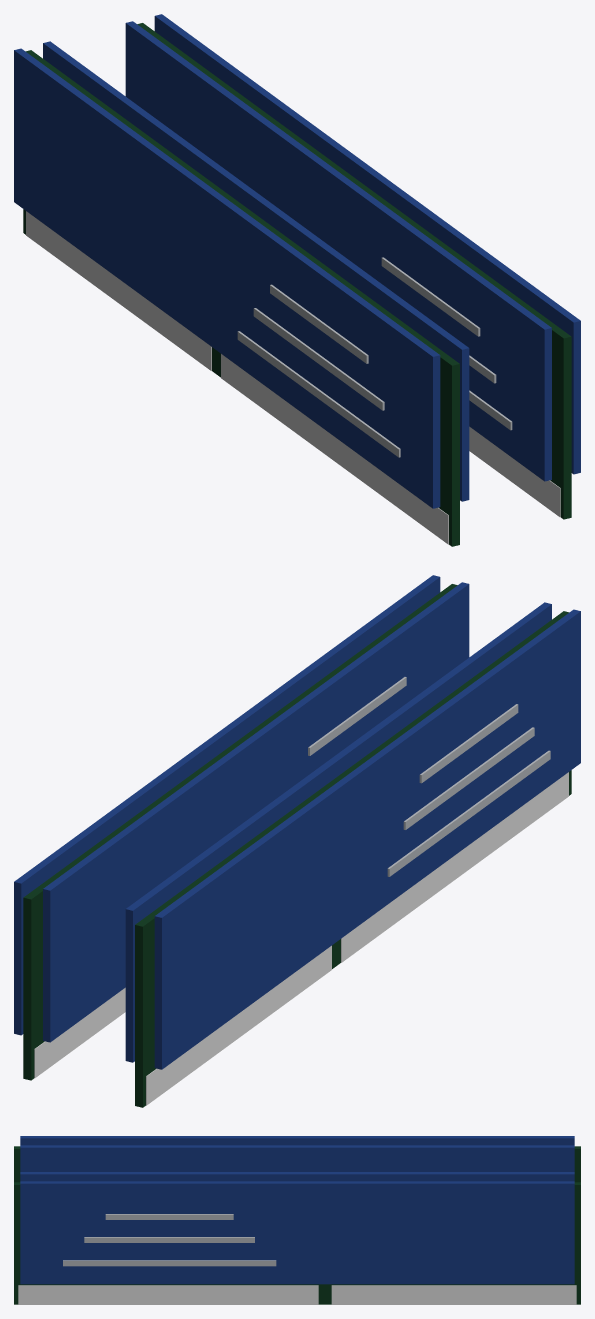
Rendered from hw_ram_ddr5_32gb.glb.
3 views of the same model, one above another, from view 1: azimuth 30°, elevation 25°; view 2: azimuth 150°, elevation 25°; view 3: azimuth 270°, elevation 25° (orthographic). The views are drawn at different scales.
Parts seen in each view (by area): view 1: Stick_1, Body; view 2: Stick_1, Body; view 3: Body, Stick_1.
Part boxes in pixels (bbox=[...]): Stick_1: bbox=[14, 41, 469, 546]; Body: bbox=[125, 14, 580, 519]; Stick_1: bbox=[125, 602, 580, 1107]; Body: bbox=[14, 575, 469, 1080]; Body: bbox=[14, 1172, 580, 1304]; Stick_1: bbox=[14, 1136, 580, 1182].
Bounding box in the file's own units: 0.0272 × 0.0325 × 0.133.
